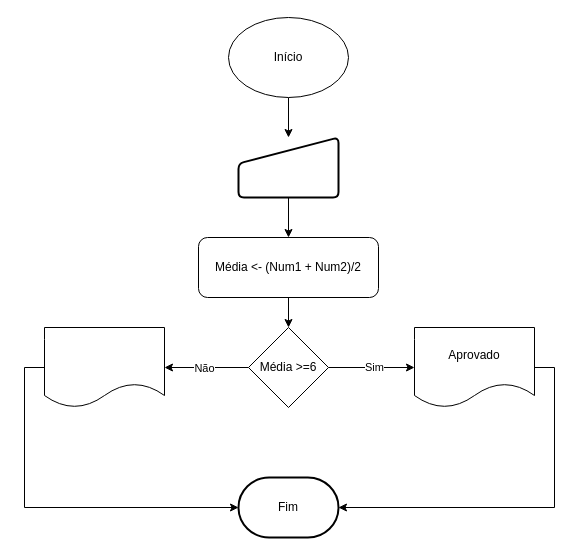
Image size: 580x556. Some labels were removed from this diagram. Each missing label, with the centre of its shape:
Num1, Num2: the point at 288,167
Reprovado: the point at 104,367
